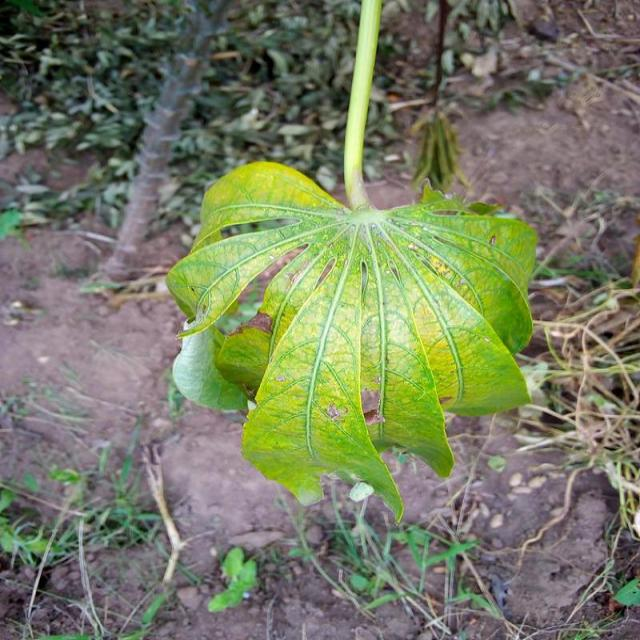cassava leaf: (166, 158, 538, 523)
